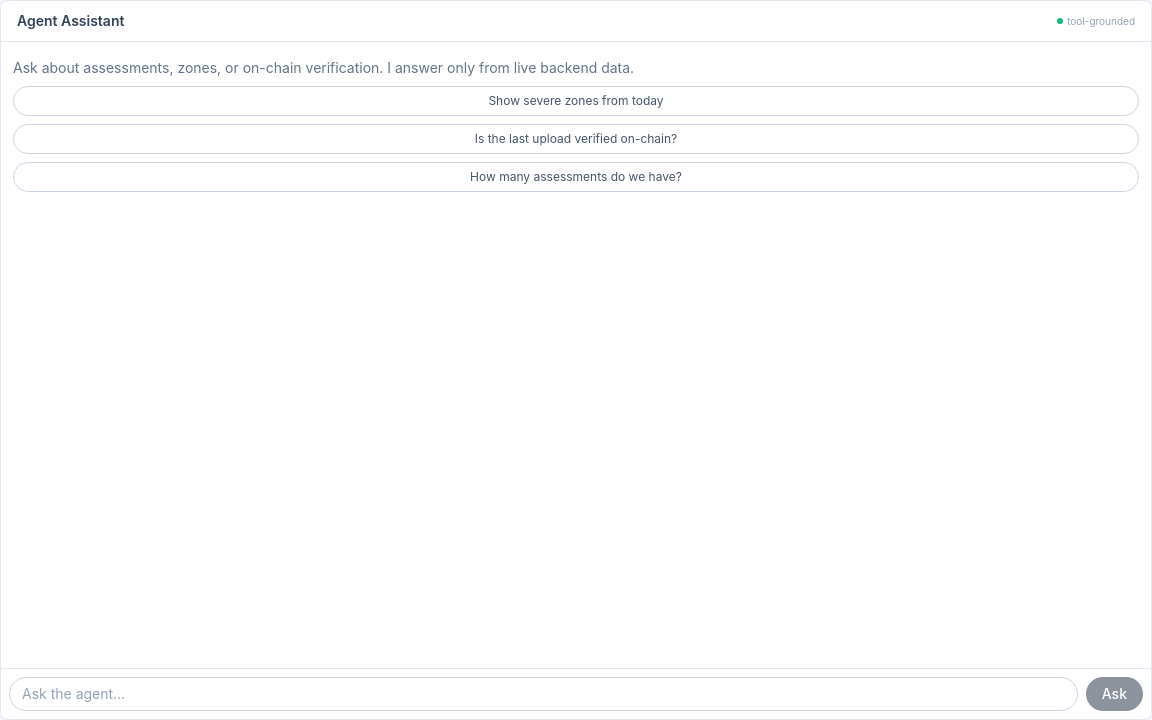
Test case: AgentChatSlot › shows the assistant answer with a timestamp
Type "How severe?" into the field with placeholder "Ask the agent…" at (543, 694), box [9,677,1078,711]
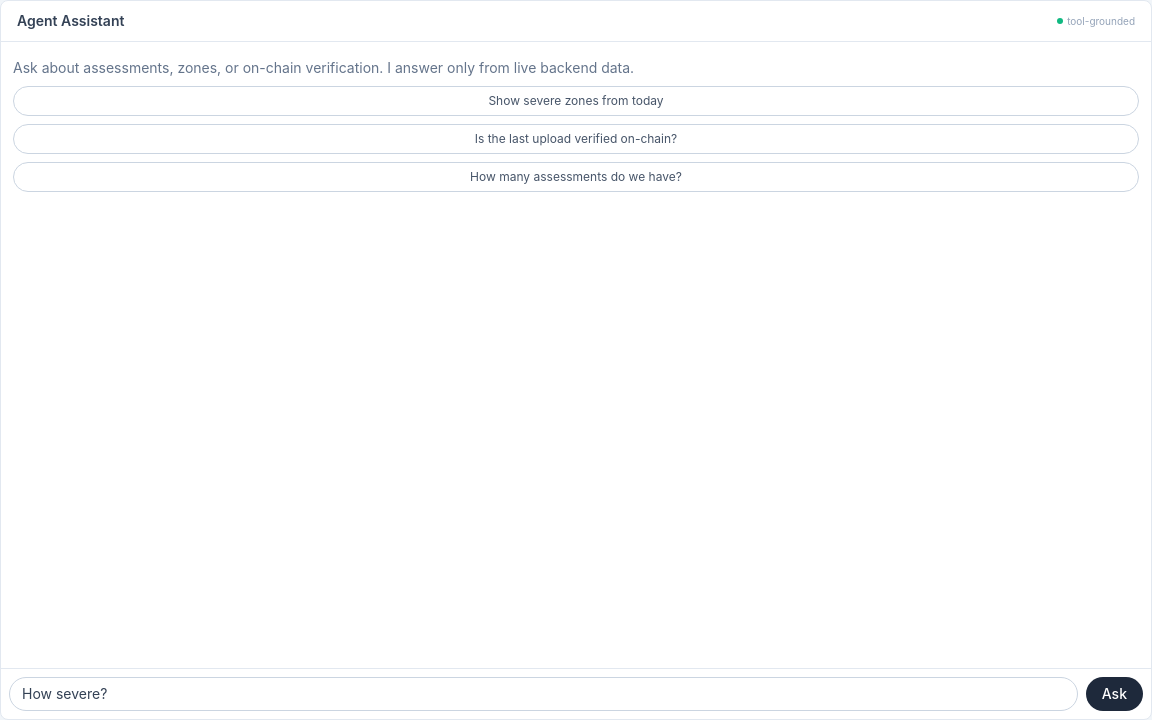
Click the button "Ask" at (1114, 694), box [1086,677,1143,711]
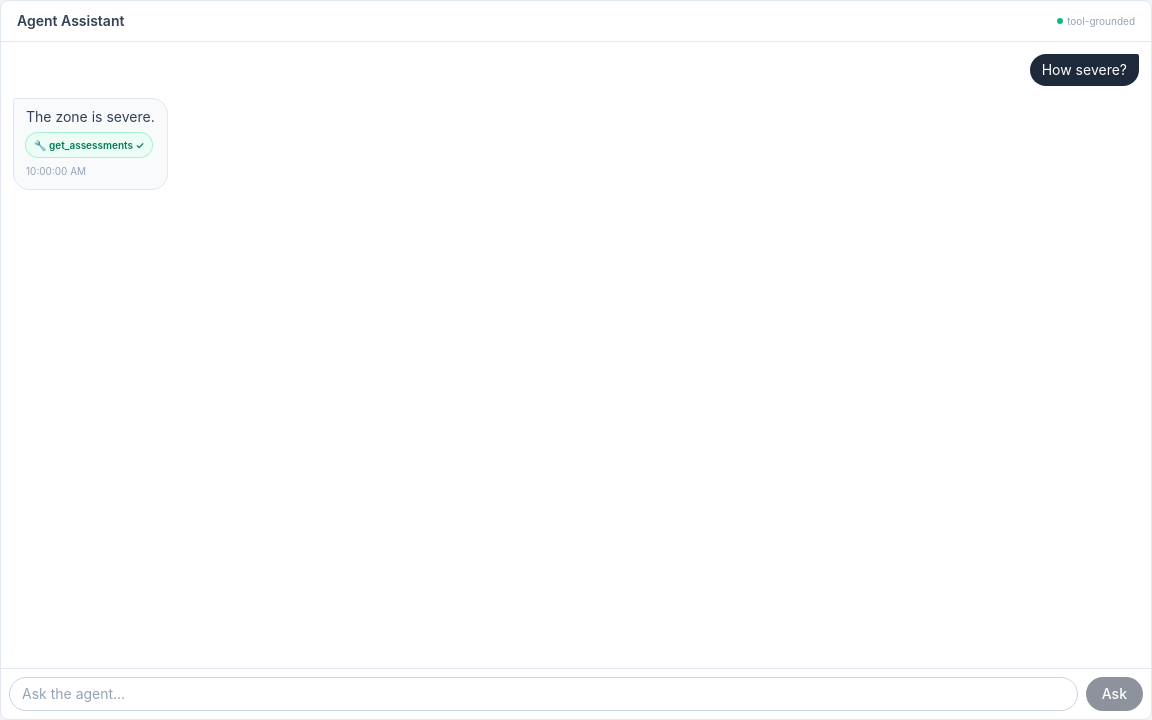
Result: the text "The zone is severe." is shown at [26,107,155,127]
Result: the text "🔧 get_assessments ✓" is shown at [26,133,152,157]
